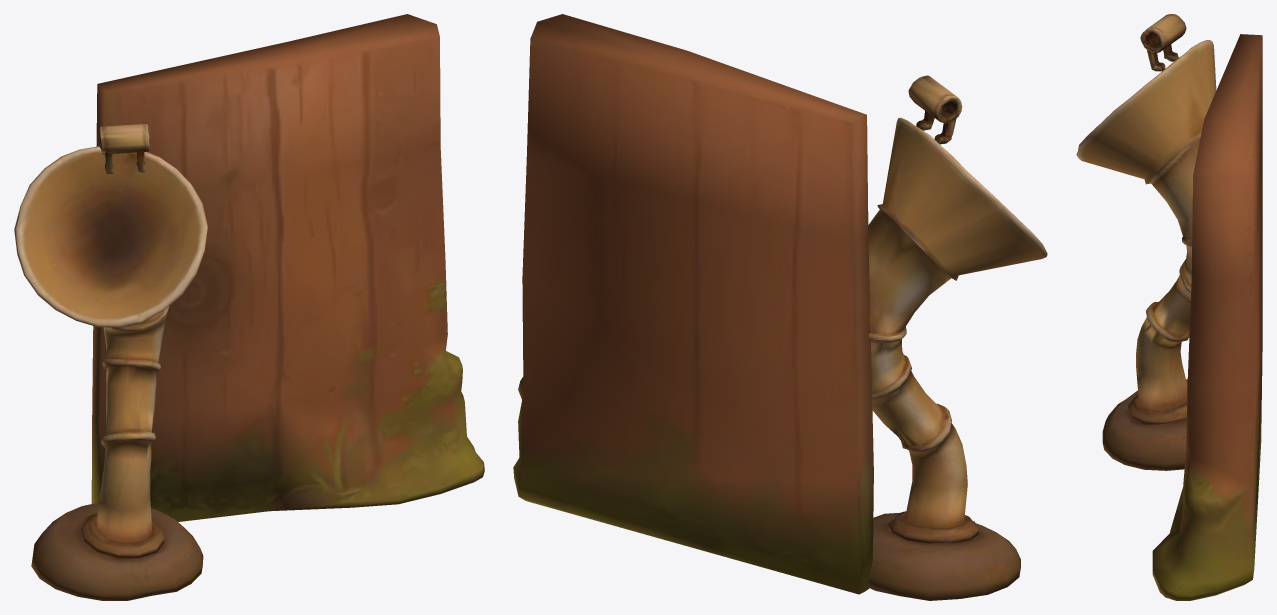
The model's file is wyn_quest_speaking_pipe.glb.
The picture shows the model from 3 angles, left to right: view 1: azimuth 30°, elevation 25°; view 2: azimuth 150°, elevation 25°; view 3: azimuth 270°, elevation 25°; orthographic projection. The views are drawn at different scales.
Visible parts, largest first — view 1: tripo_node_ecbca69f-8484-4554-8d69-853cc09cb053; view 2: tripo_node_ecbca69f-8484-4554-8d69-853cc09cb053; view 3: tripo_node_ecbca69f-8484-4554-8d69-853cc09cb053.
Part boxes in pixels (x1=…): tripo_node_ecbca69f-8484-4554-8d69-853cc09cb053: x1=14, y1=14, x2=484, y2=600; tripo_node_ecbca69f-8484-4554-8d69-853cc09cb053: x1=513, y1=14, x2=1047, y2=600; tripo_node_ecbca69f-8484-4554-8d69-853cc09cb053: x1=1076, y1=14, x2=1262, y2=600.
Size of the model in its own units: 0.9865 by 0.9 by 0.3621.
Materials: 1 (1 with a texture image).
